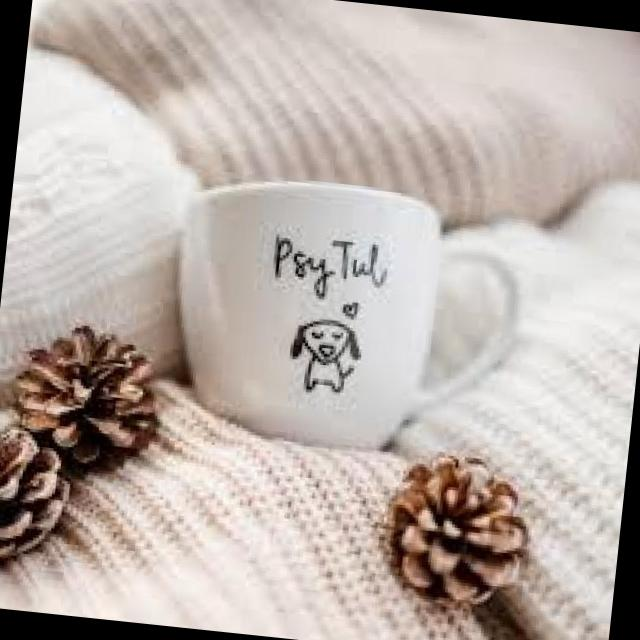Coffee Mug: (162, 167, 531, 463)
